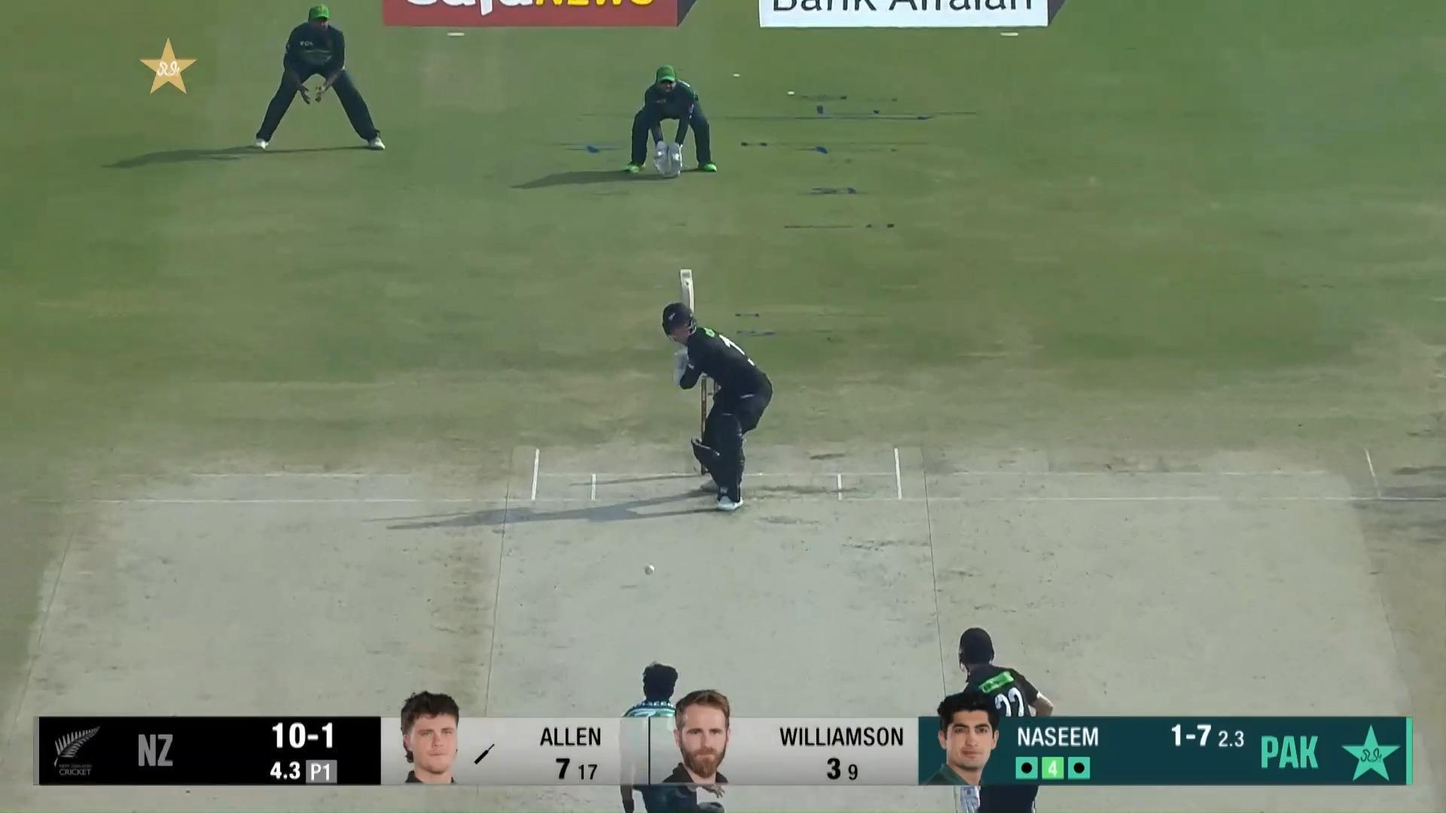BM 1: (659, 265, 774, 513)
BO: (617, 659, 725, 813)
